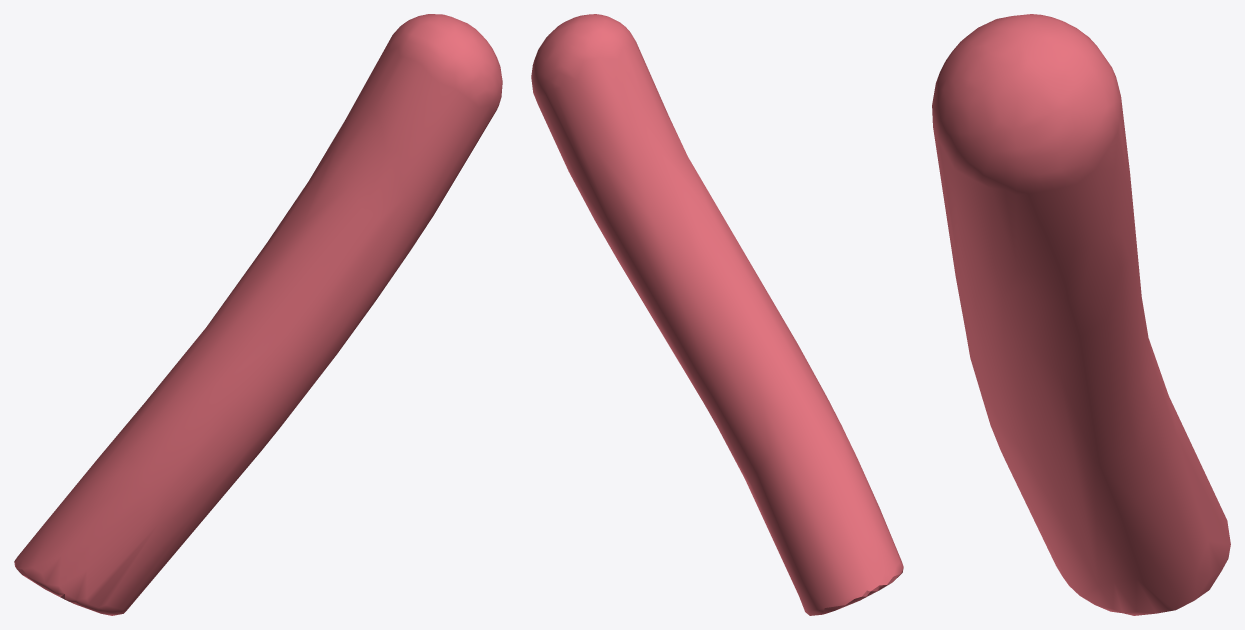
The model's file is fma14765.glb.
The picture shows the model from 3 angles, left to right: view 1: azimuth 30°, elevation 25°; view 2: azimuth 150°, elevation 25°; view 3: azimuth 270°, elevation 25°; orthographic projection. The views are drawn at different scales.
Parts seen in each view (by area): view 1: FMA14765; view 2: FMA14765; view 3: FMA14765.
Boxes of the visible parts, left/top/right/bottom form: FMA14765: left=14, top=14, right=502, bottom=615; FMA14765: left=531, top=14, right=903, bottom=615; FMA14765: left=932, top=14, right=1230, bottom=615.
Size of the model in its own units: 0.0498 by 0.0601 by 0.0204.
